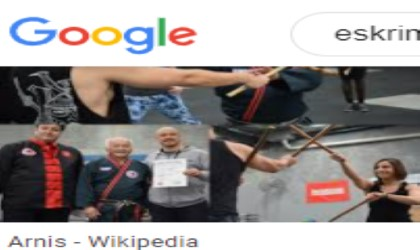baston_e: (286, 122, 341, 160), (236, 136, 278, 174)
baston_v: (222, 81, 249, 104), (262, 120, 276, 138)
